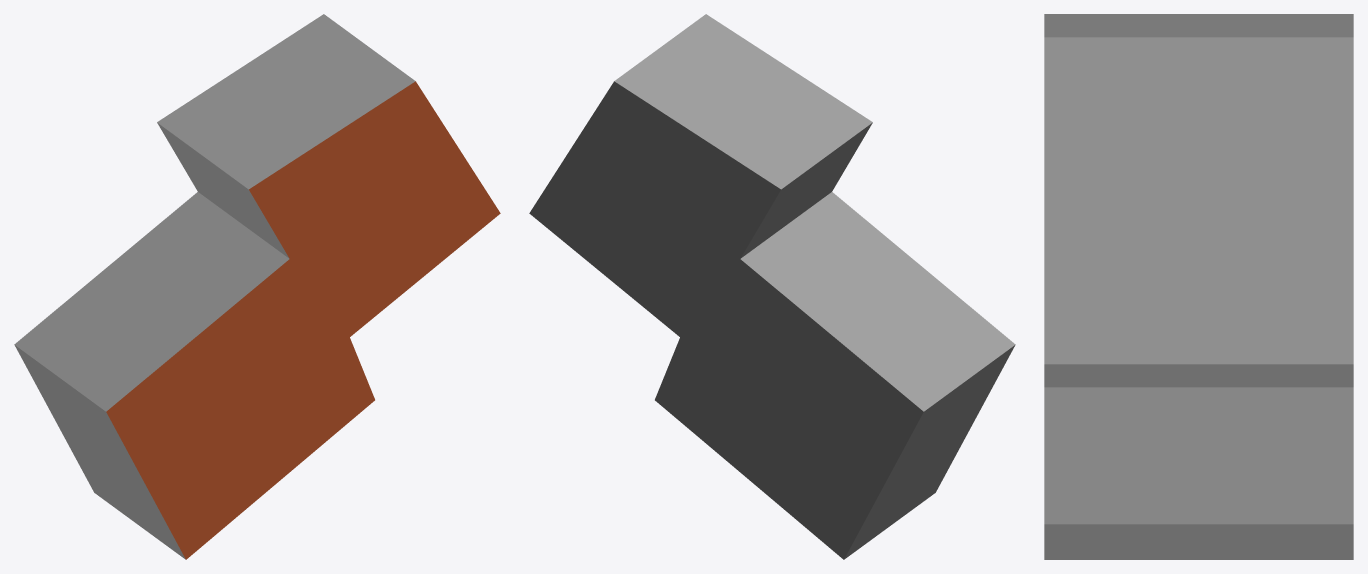
File: construction_4576_assumed_A_Casa_h6m.obj
3 renders of one model, left to right at view 1: azimuth 30°, elevation 25°; view 2: azimuth 150°, elevation 25°; view 3: azimuth 270°, elevation 25°, orthographic. The views are drawn at different scales.
Visible parts, largest first — view 1: construction_4576_assumed_A_Casa; view 2: construction_4576_assumed_A_Casa; view 3: construction_4576_assumed_A_Casa.
Part boxes in pixels (x1,y1,x2,y2): construction_4576_assumed_A_Casa: (14,14,500,559); construction_4576_assumed_A_Casa: (529,14,1015,559); construction_4576_assumed_A_Casa: (1044,14,1353,559).
Size of the model in its own units: 14.88 by 15.23 by 6.
